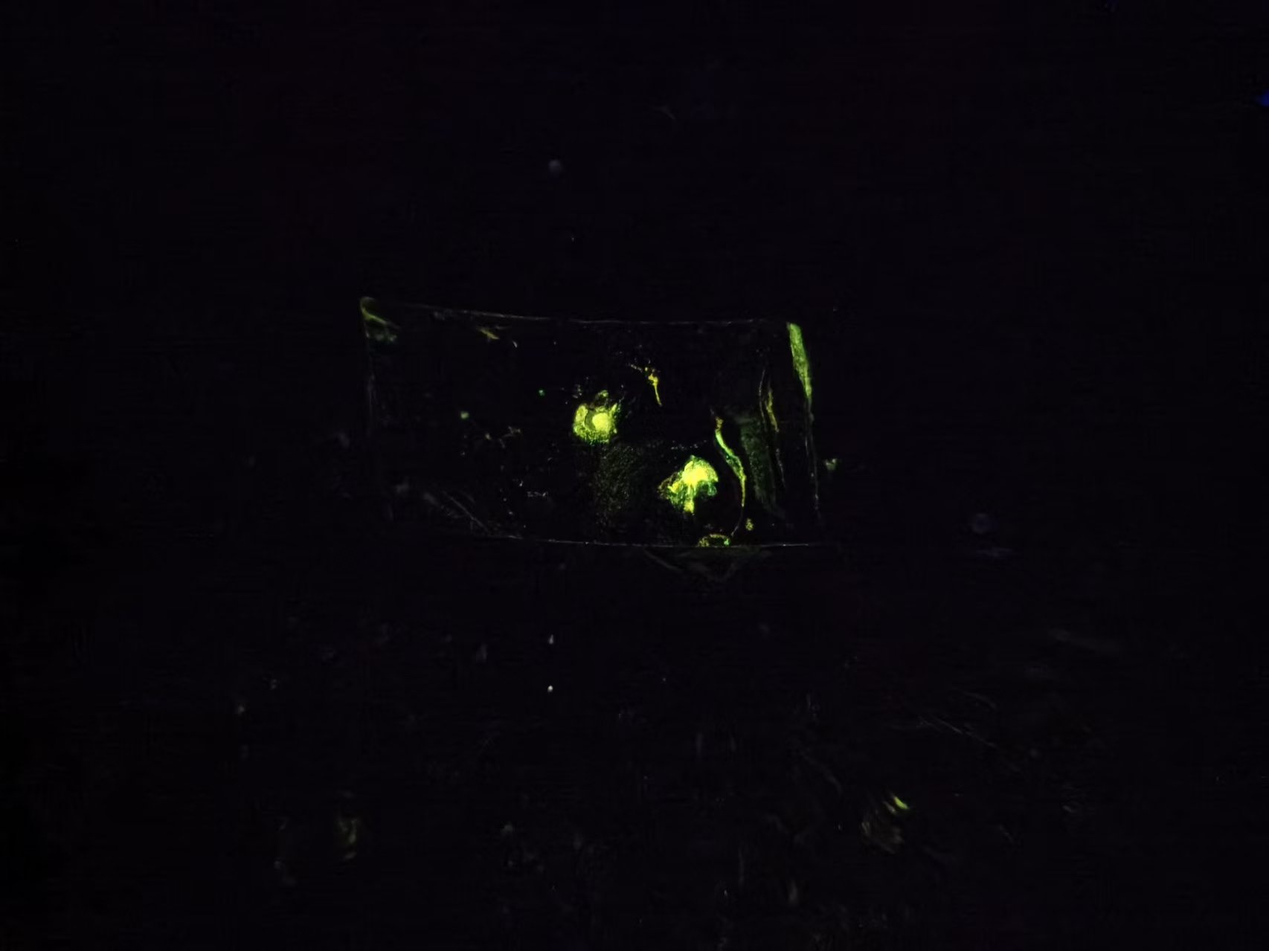Crater: (638, 432, 754, 533), (543, 369, 645, 464)
